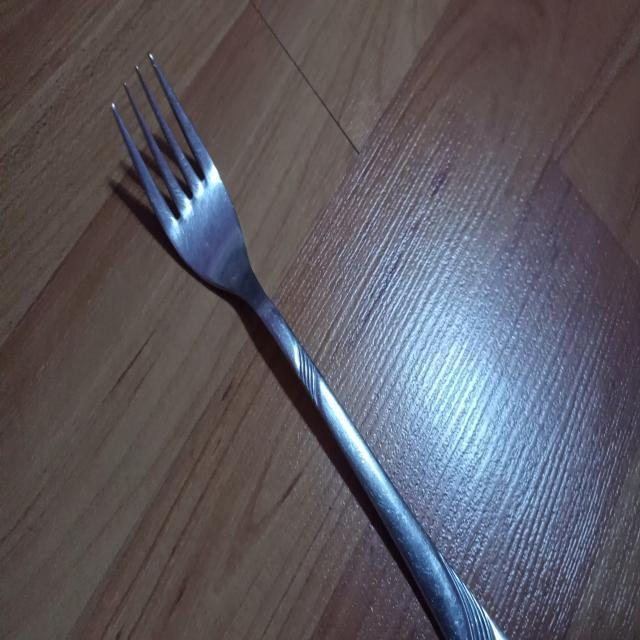spoon: (111, 52, 509, 640)
